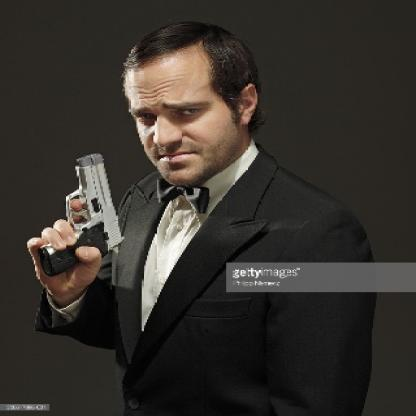handgun: (36, 150, 125, 274)
